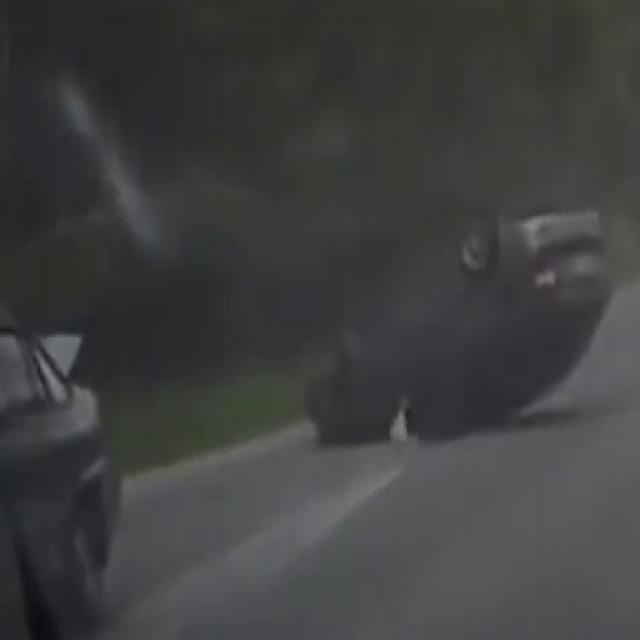accident: (285, 180, 619, 473)
